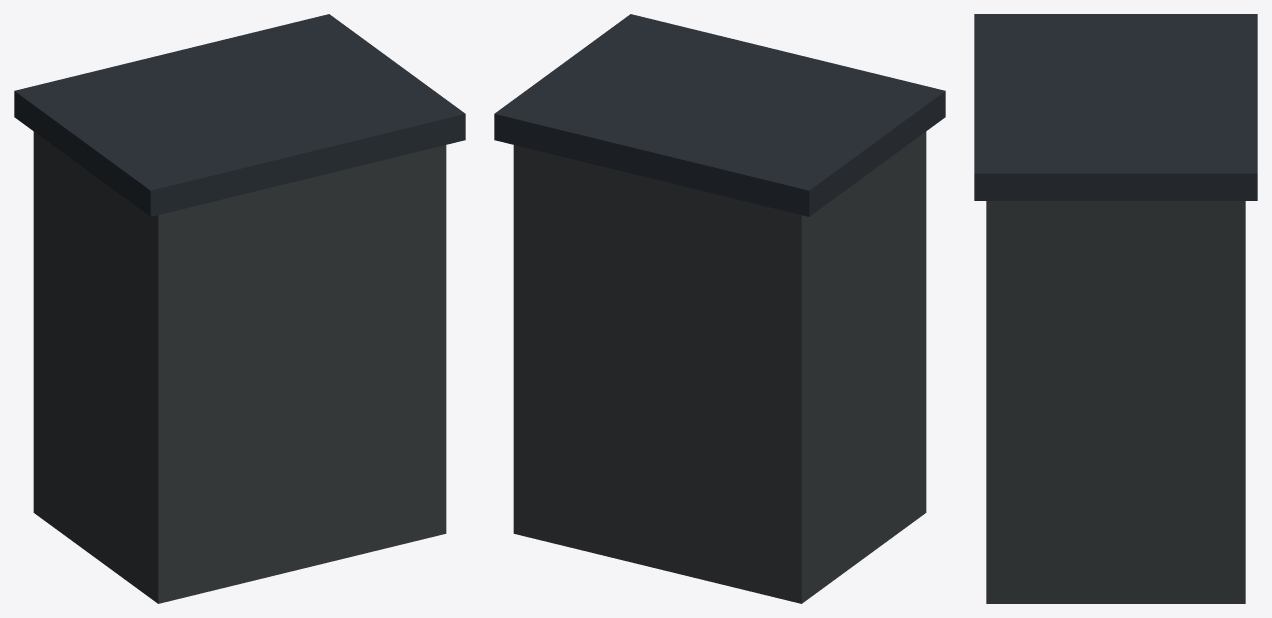
File: can_stack.glb
3 views of the same model, side by side, from view 1: azimuth 30°, elevation 25°; view 2: azimuth 150°, elevation 25°; view 3: azimuth 270°, elevation 25° (orthographic). The views are drawn at different scales.
Visible parts, largest first — view 1: body; view 2: body; view 3: body.
Boxes of the visible parts, x1,y1,x2,y2 form: body: (14, 14, 465, 603); body: (494, 14, 945, 603); body: (974, 14, 1257, 603).
Size of the model in its own units: 0.752 by 0.96 by 0.564.
1 material, 1 textured.
